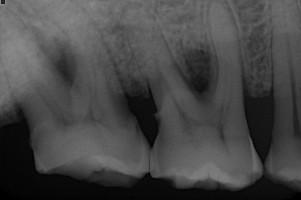Endo-Periodontal Lesion: (177, 47, 212, 90), (52, 35, 76, 84)
